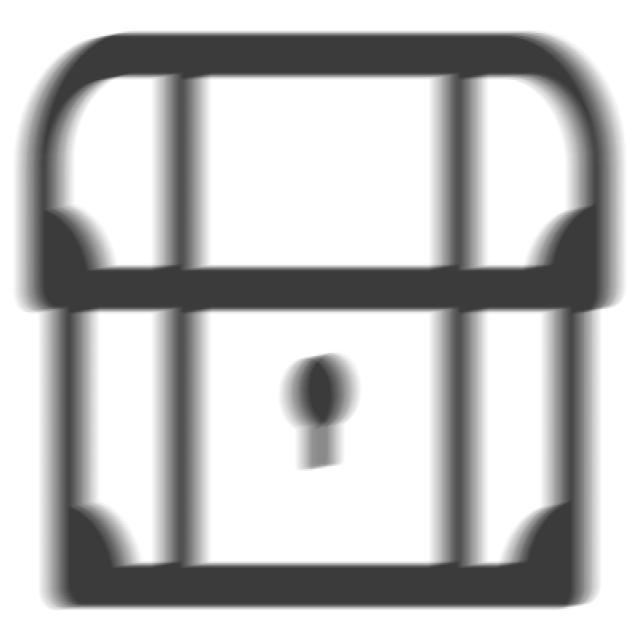treasure_box: (10, 28, 636, 623)
